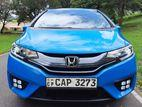car: (5, 6, 138, 106)
